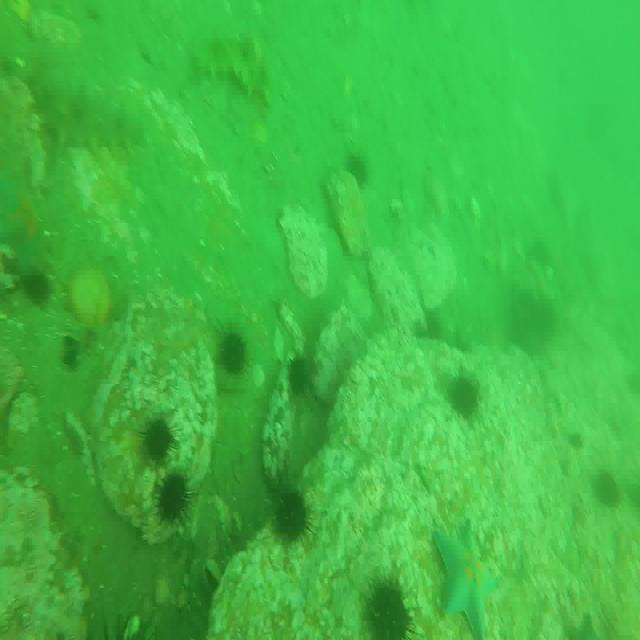echinus: (366, 577, 411, 640), (274, 496, 311, 546), (156, 474, 191, 524), (143, 416, 178, 464), (450, 369, 479, 422), (217, 330, 248, 378), (595, 464, 623, 510), (25, 267, 50, 307), (290, 357, 315, 395), (348, 148, 370, 186)
holothurian: (44, 86, 145, 150), (198, 30, 271, 102)
starfish: (433, 518, 497, 640)
